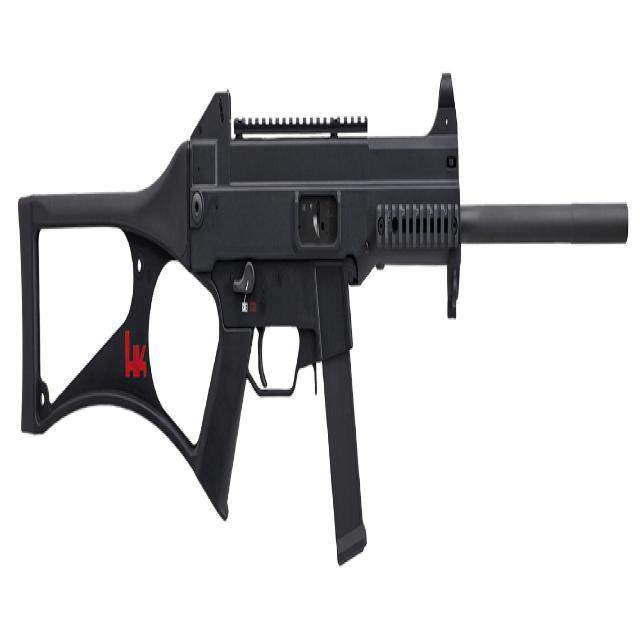SMG: (18, 75, 629, 567)
